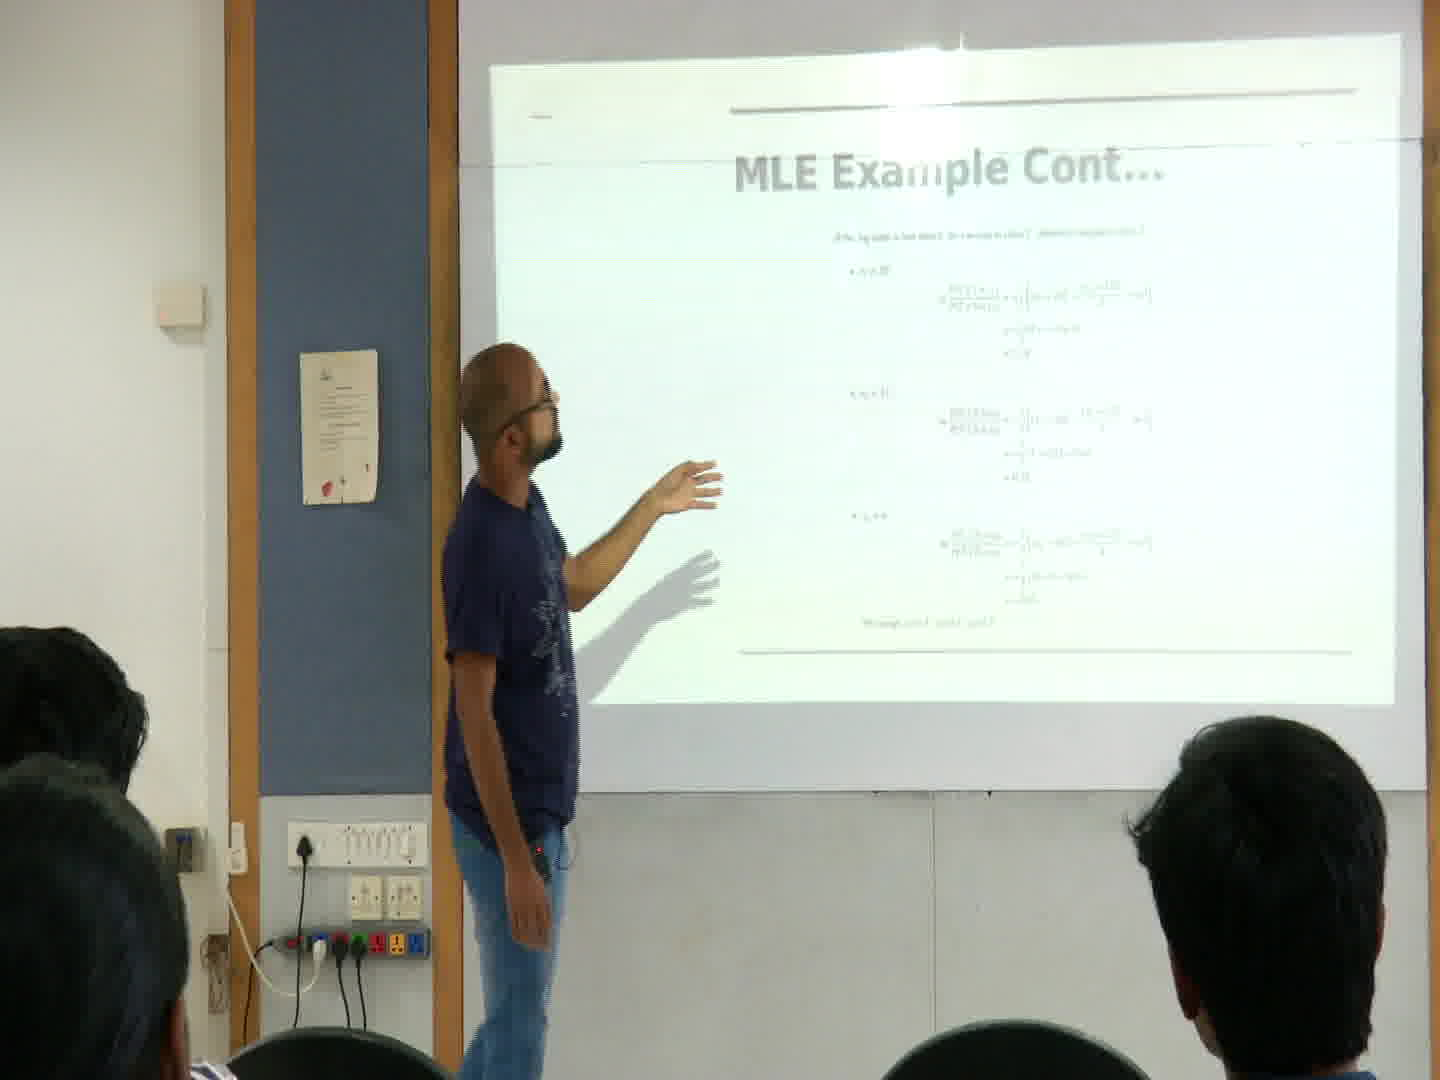eq: (922, 389, 1158, 495), (935, 518, 1162, 608), (927, 278, 1158, 364)
